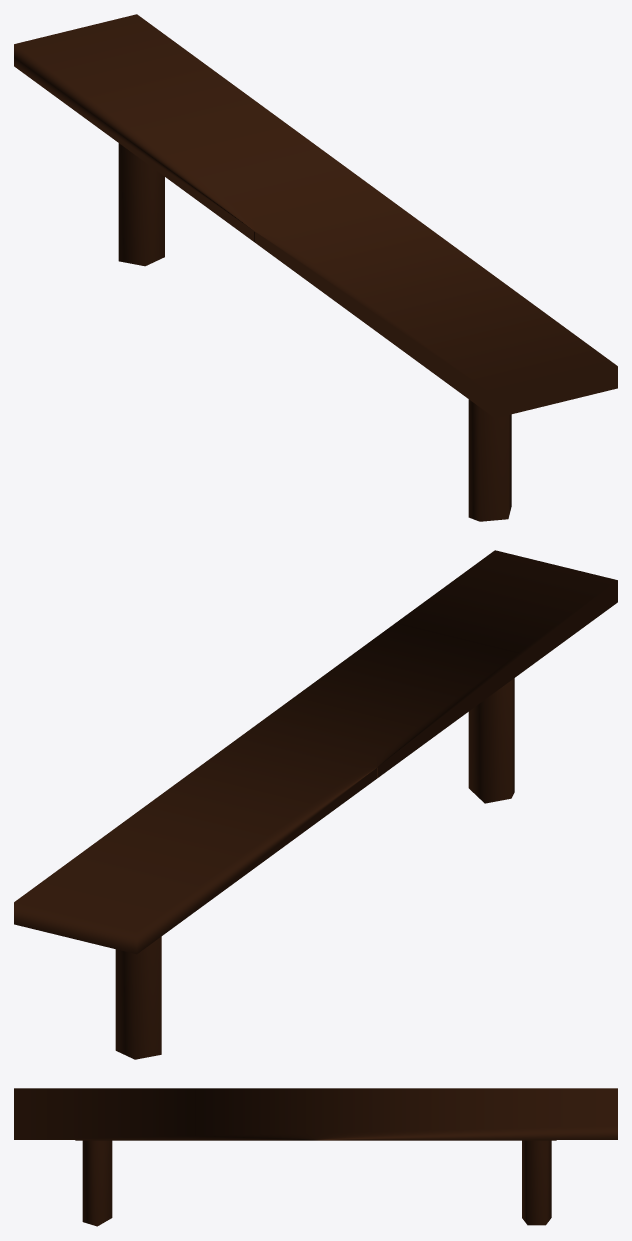
Rendered from Bench.obj.
The picture shows the model from 3 angles, top to bottom: view 1: azimuth 30°, elevation 25°; view 2: azimuth 150°, elevation 25°; view 3: azimuth 270°, elevation 25°; orthographic projection. The views are drawn at different scales.
Visible parts, largest first — view 1: Bench; view 2: Bench; view 3: Bench.
Part boxes in pixels (x1,y1,x2,y2): Bench: (14, 14, 617, 521); Bench: (14, 550, 617, 1059); Bench: (14, 1088, 617, 1226).
Bounding box in the file's own units: 141 × 196 × 952.
